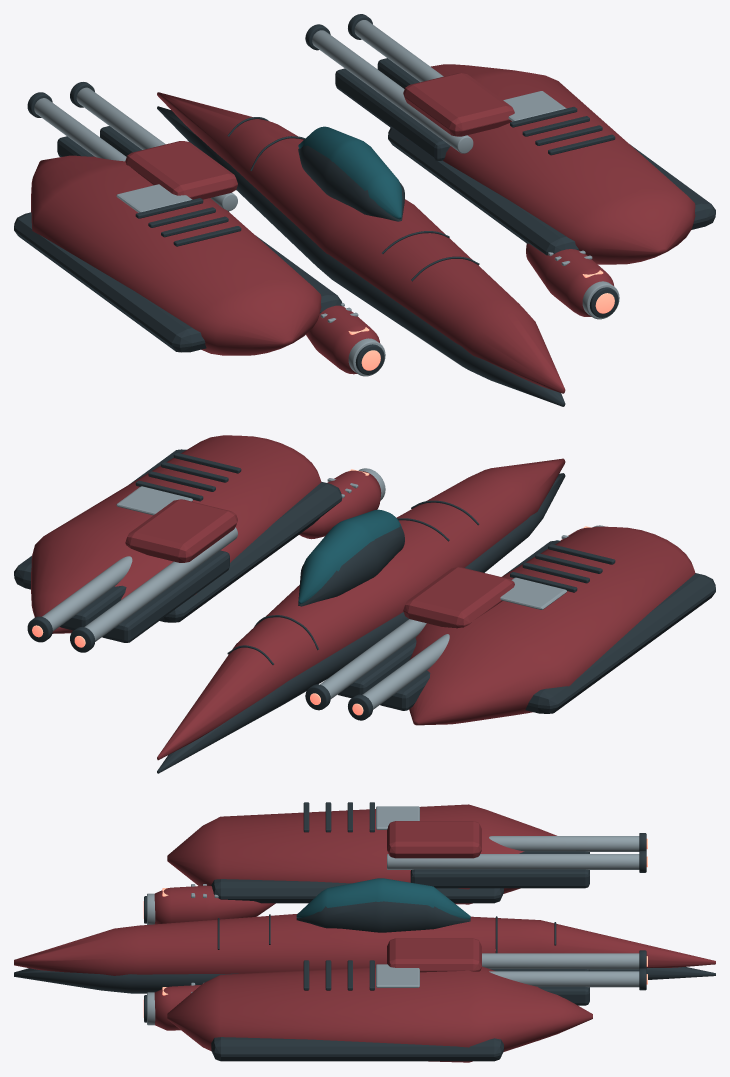
The model's file is boss-1-p2.glb.
The picture shows the model from 3 angles, top to bottom: view 1: azimuth 30°, elevation 25°; view 2: azimuth 150°, elevation 25°; view 3: azimuth 270°, elevation 25°; orthographic projection. The views are drawn at different scales.
Visible parts, largest first — view 1: SM_Hull, SM_Wing_Left, SM_Wing_Right, SM_Weapon_Right, SM_Weapon_Left, SM_Engine_Right, SM_Engine_Left; view 2: SM_Hull, SM_Wing_Left, SM_Wing_Right, SM_Weapon_Right, SM_Weapon_Left, SM_Engine_Right; view 3: SM_Hull, SM_Wing_Right, SM_Wing_Left, SM_Weapon_Left, SM_Weapon_Right, SM_Engine_Left, SM_Engine_Right.
Boxes of the visible parts, <box> form: SM_Hull: <box>157,92,565,406</box>; SM_Wing_Left: <box>14,155,341,355</box>; SM_Wing_Right: <box>388,64,715,264</box>; SM_Weapon_Right: <box>305,14,514,160</box>; SM_Weapon_Left: <box>27,82,237,211</box>; SM_Engine_Right: <box>526,243,619,319</box>; SM_Engine_Left: <box>306,302,385,376</box>; SM_Hull: <box>157,458,565,773</box>; SM_Wing_Left: <box>409,526,715,725</box>; SM_Wing_Right: <box>14,435,341,633</box>; SM_Weapon_Right: <box>27,499,237,652</box>; SM_Weapon_Left: <box>305,567,514,720</box>; SM_Engine_Right: <box>299,468,385,539</box>; SM_Hull: <box>14,878,715,993</box>; SM_Wing_Right: <box>167,960,592,1062</box>; SM_Wing_Left: <box>167,802,556,904</box>; SM_Weapon_Left: <box>387,821,647,888</box>; SM_Weapon_Right: <box>387,938,647,1005</box>; SM_Engine_Left: <box>143,884,275,924</box>; SM_Engine_Right: <box>143,982,203,1030</box>.
Size of the model in its own units: 7.44 by 1.63 by 9.6.
